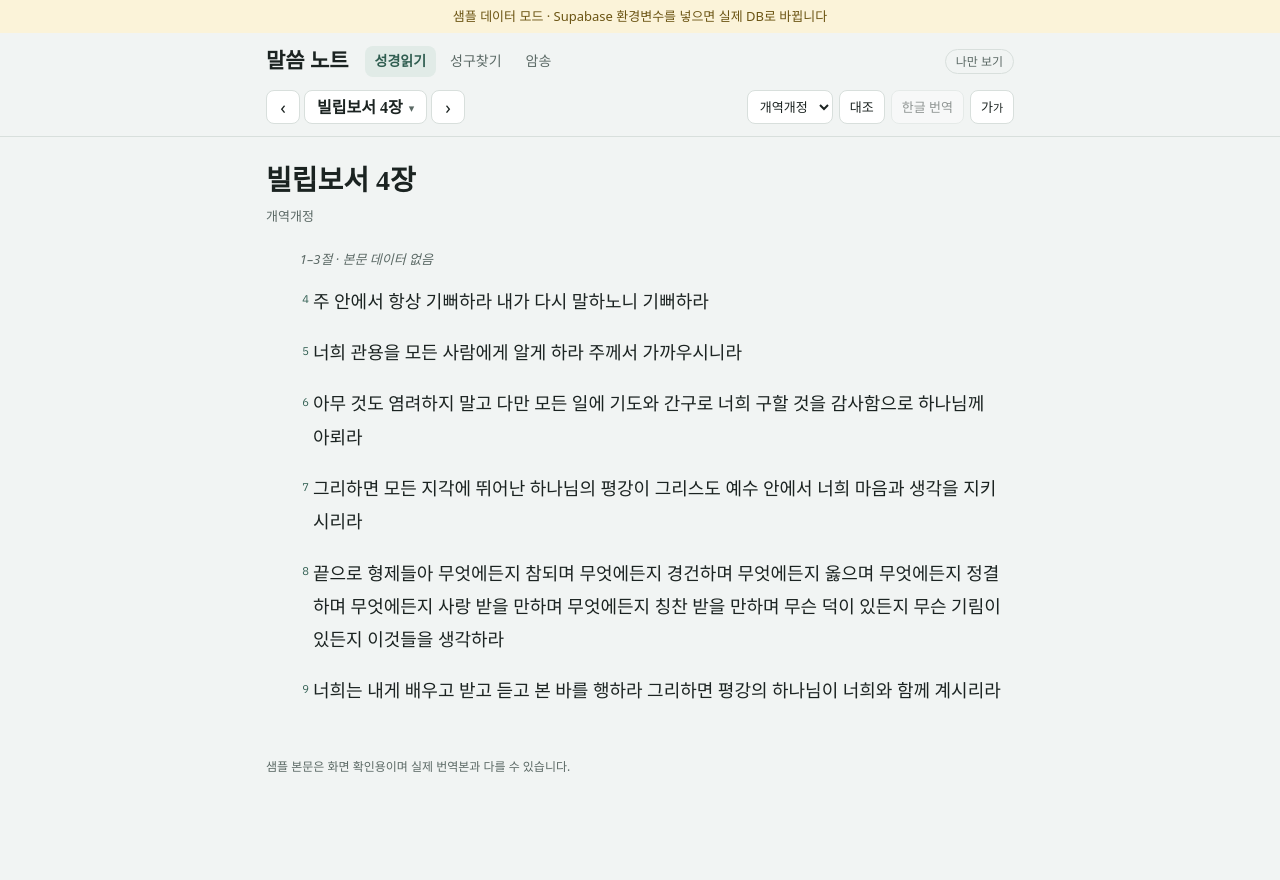
Test: app (sample mode) › top toggle only shows stored translations; translating is per verse and per engine
The width and height of the screenshot is (1280, 880).
Expected: the heading "빌립보서 4장" is shown, [266, 165, 416, 196]
Expected: the button "한글 번역" is disabled, [891, 90, 964, 124]
Select "MSG" in the dropdown named "번역본" at (790, 107), box [747, 90, 833, 124]
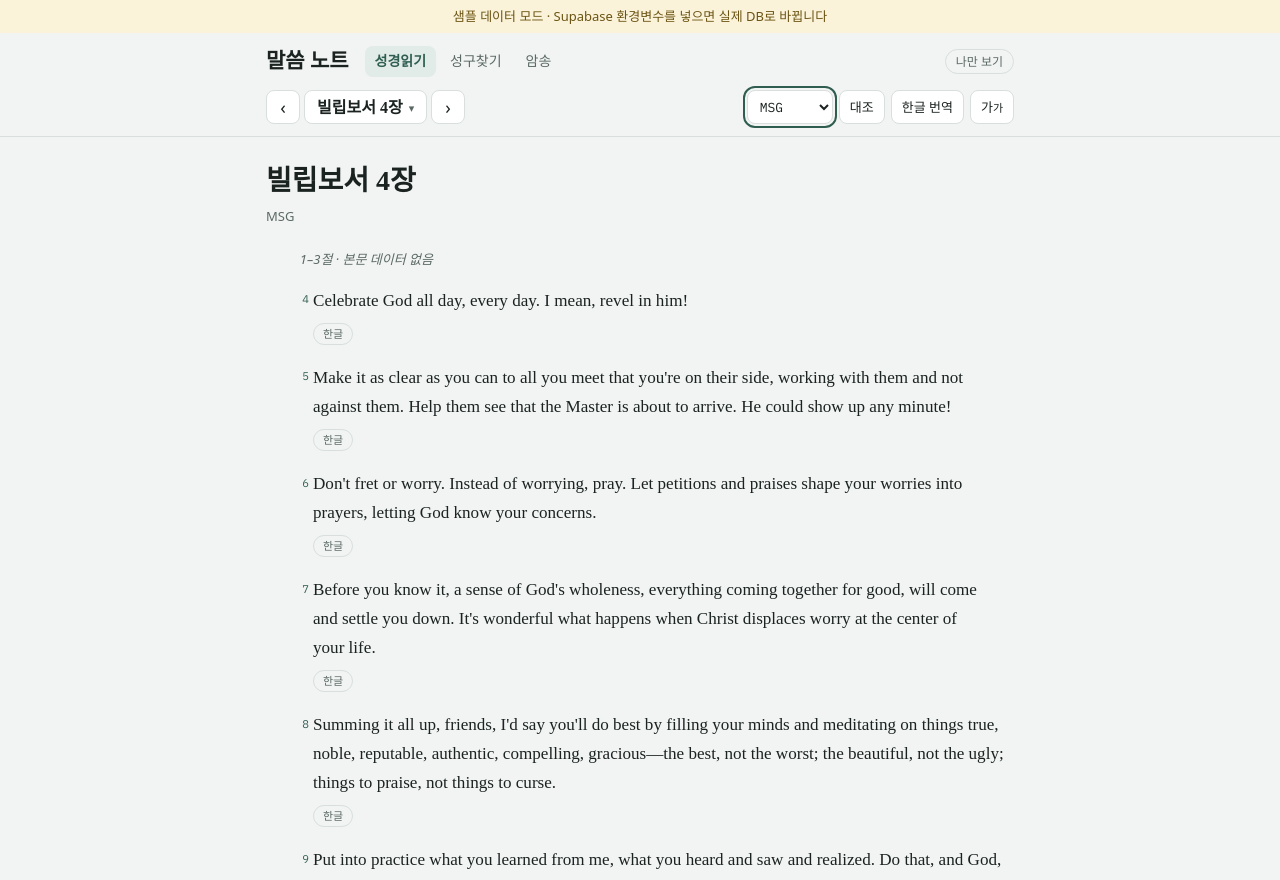
Click the button "한글 번역" at (927, 107), box [891, 90, 964, 124]
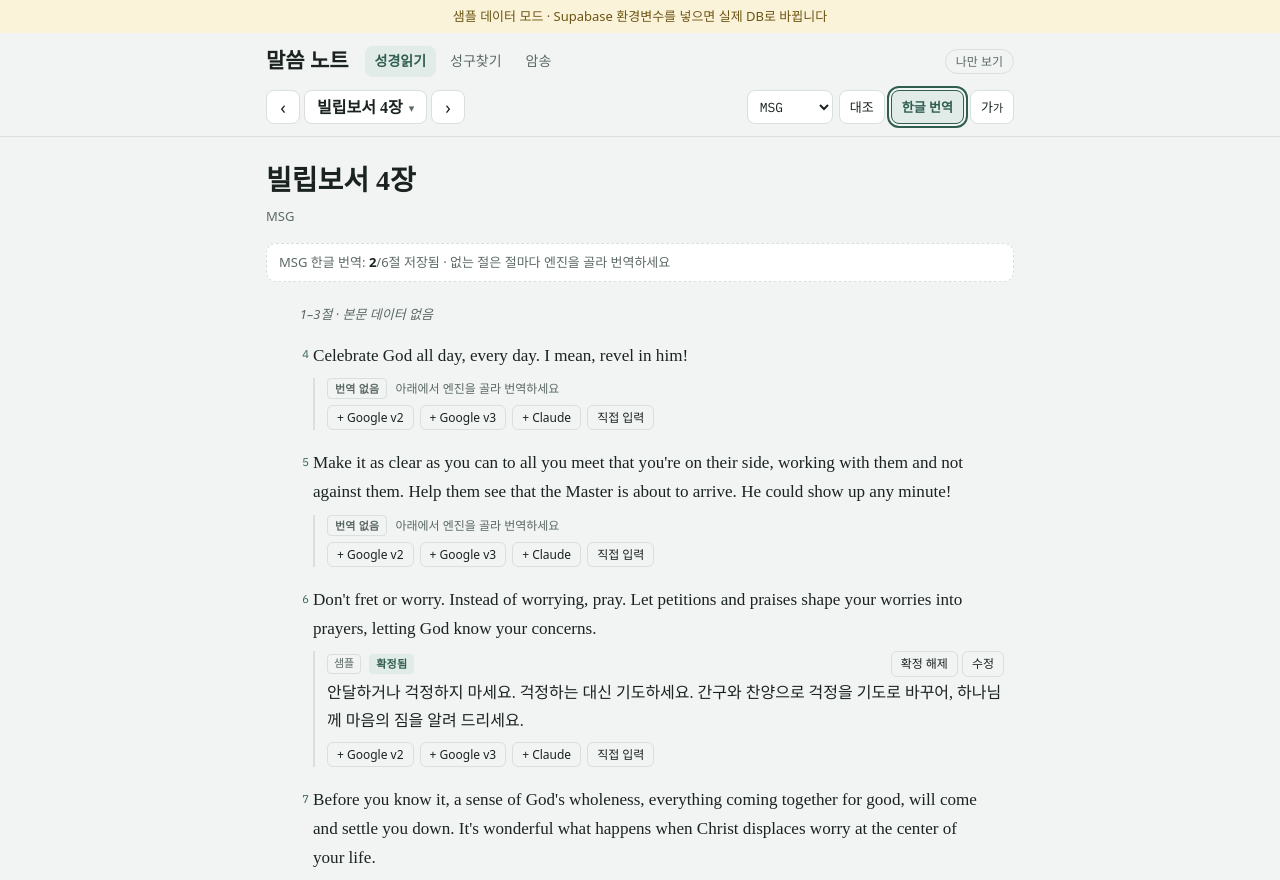
Now the element with class "batch" shows "2/6절 저장됨", box [266, 243, 1014, 282]
Now the text "번역 없음" is shown 4 times
Translate one verse with one engine
Click the 1st button "+ Google v3" at (463, 418), box [420, 405, 506, 430]
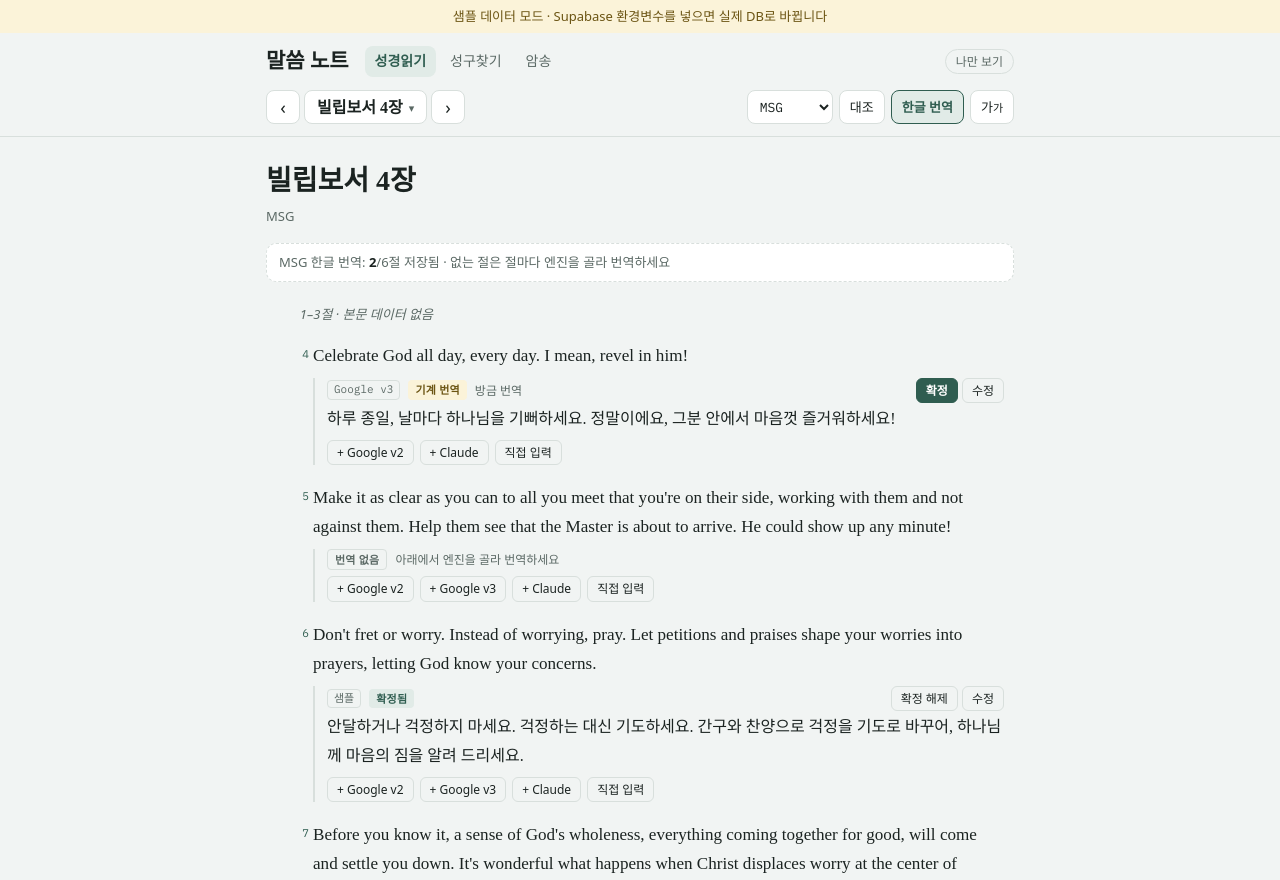
Now the text "번역 없음" is shown 3 times
Now the text "방금 번역" is shown, box [475, 381, 522, 400]
Confirm it
Click the button "확정" at (937, 390), box [916, 378, 958, 403]
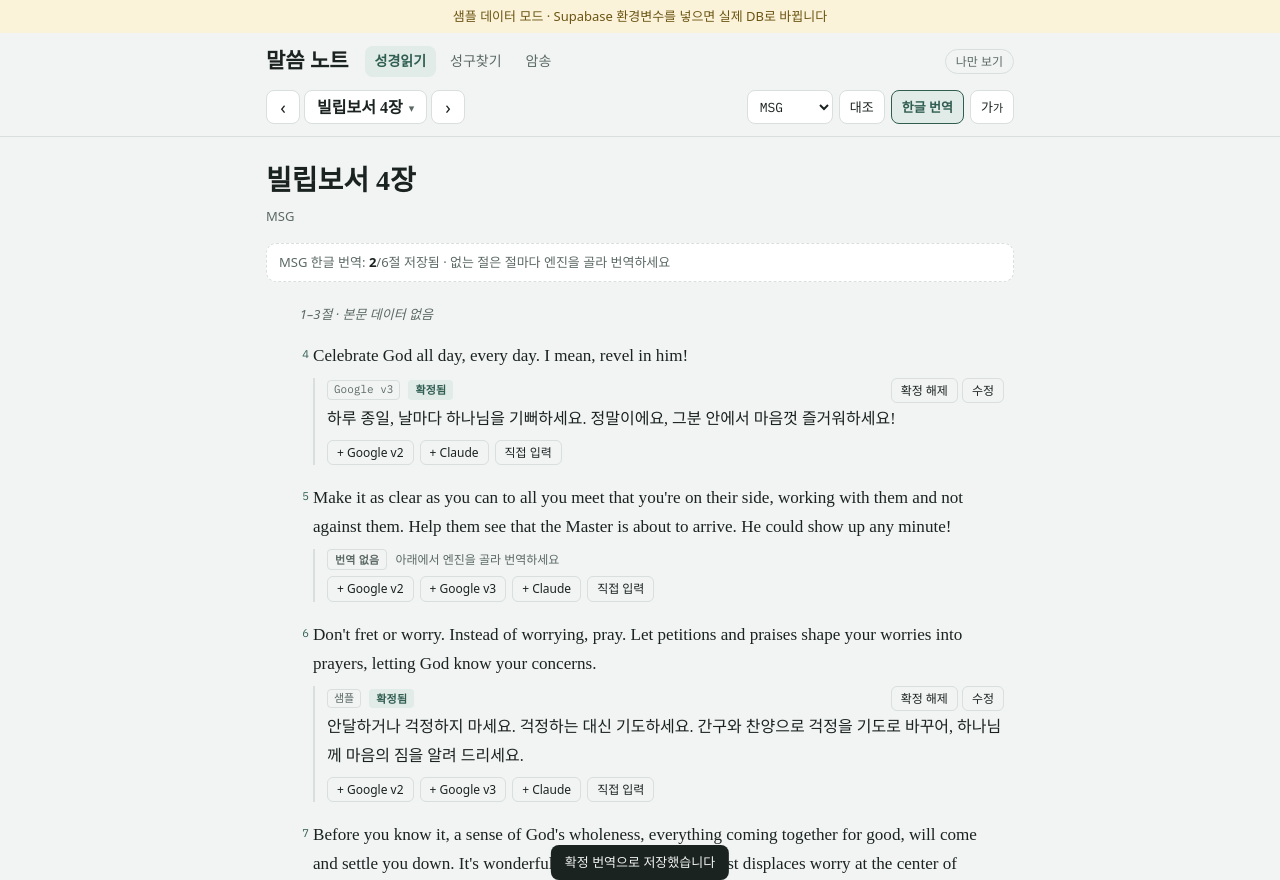
Now the 1st text "확정됨" is shown, box [408, 380, 453, 400]
